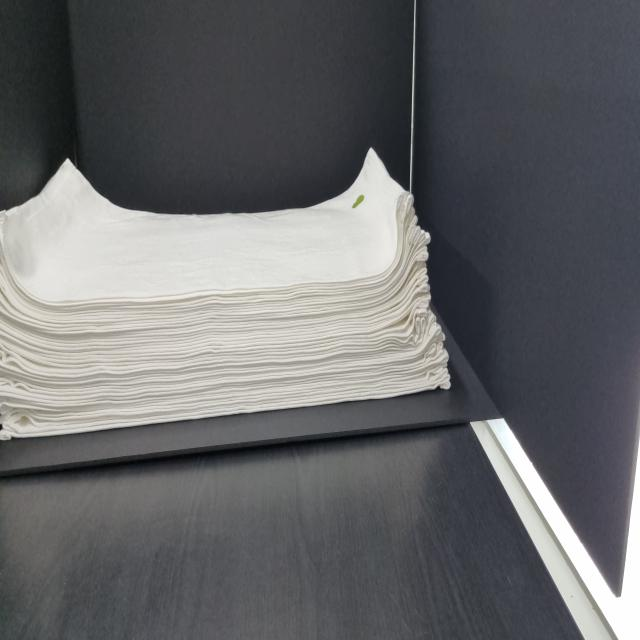not_50count_towel: (0, 131, 454, 444)
